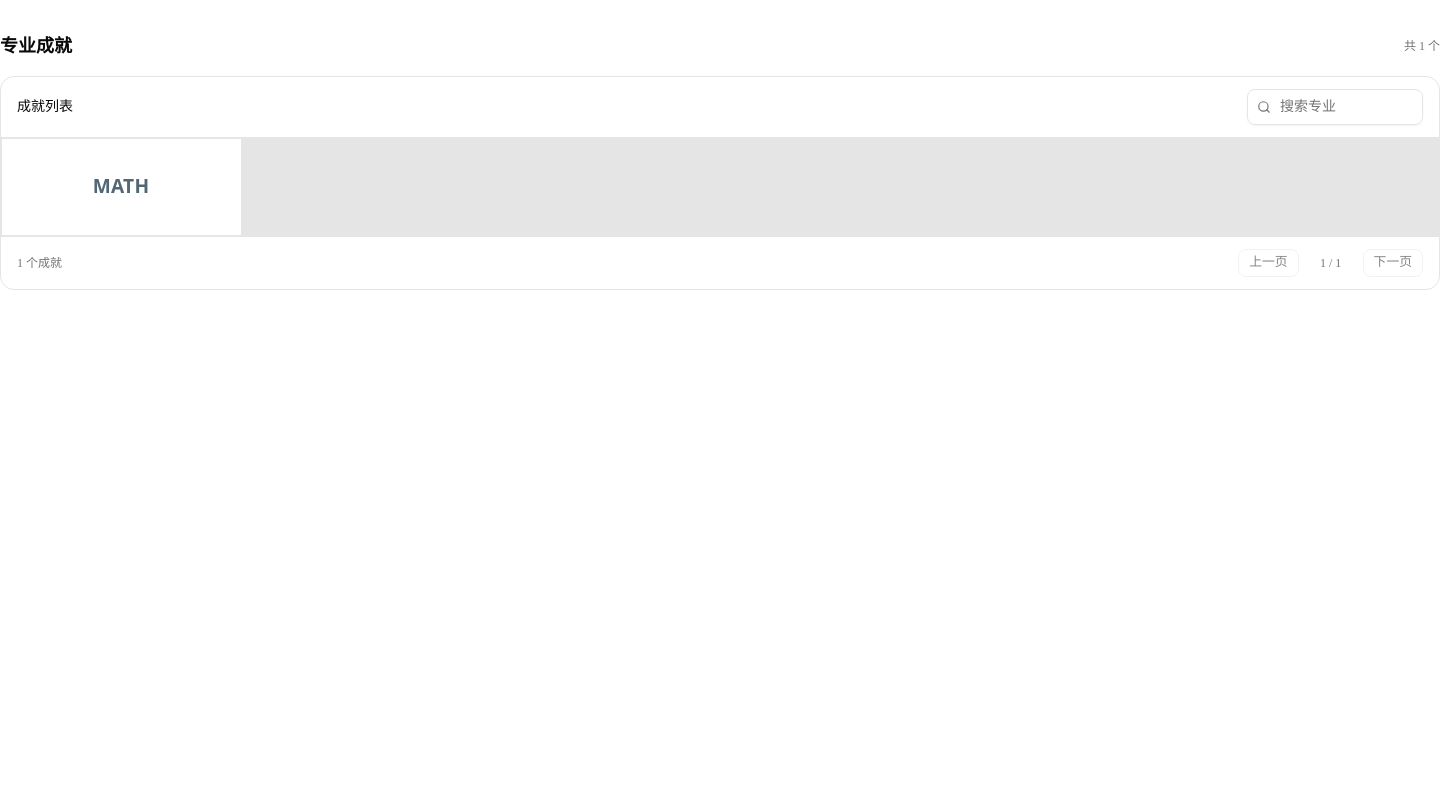
Test case: ProfessionalAchievementInventory › frames only the current tier and labels every future tier as locked
The width and height of the screenshot is (1440, 810).
Click the button with aria-label "数学，已获得" at (121,187), box 2,139 -> 240,235
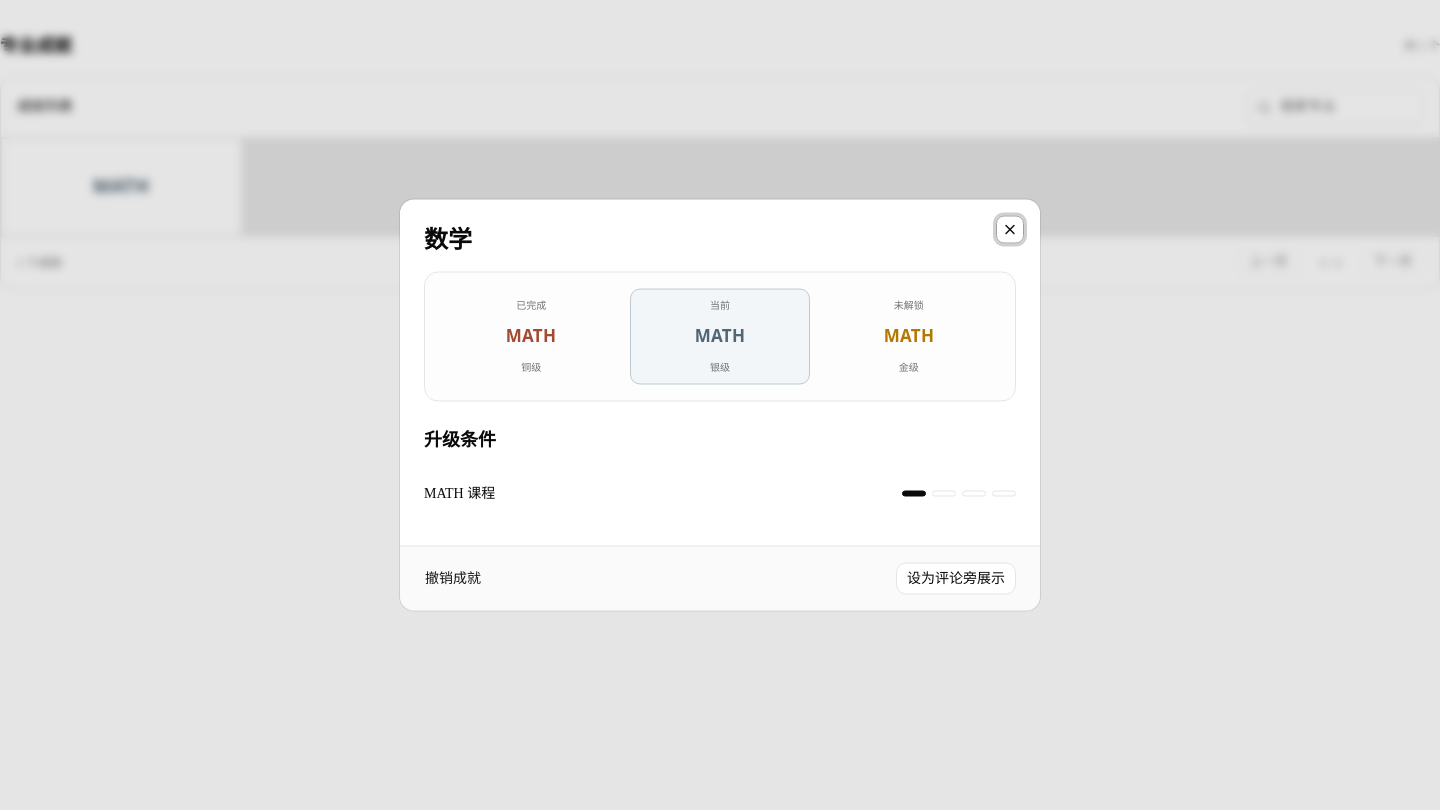
Now the dialog is shown, box 400,200 -> 1040,610
Now the text "未解锁" is shown, box 894,299 -> 924,310
